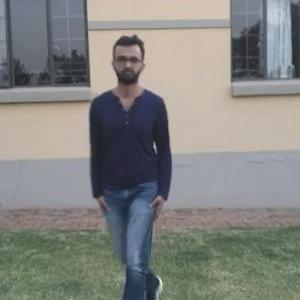follow: (84, 37, 168, 299)
